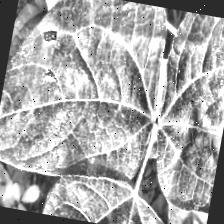ALS: (0, 0, 171, 205), (144, 10, 224, 215), (33, 178, 208, 224)
